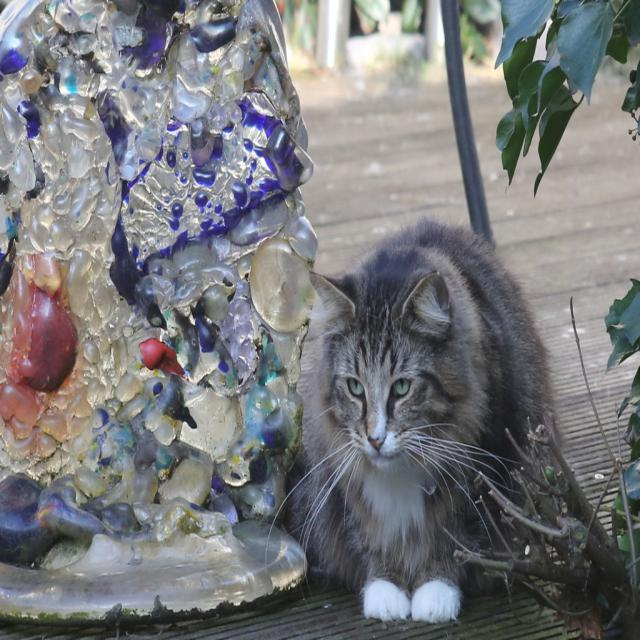Cat: (260, 216, 561, 620)
